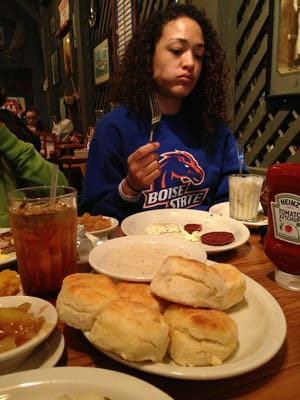pizza: (5, 185, 79, 298), (228, 150, 265, 222), (228, 174, 265, 222)
sushi: (0, 295, 58, 375)
